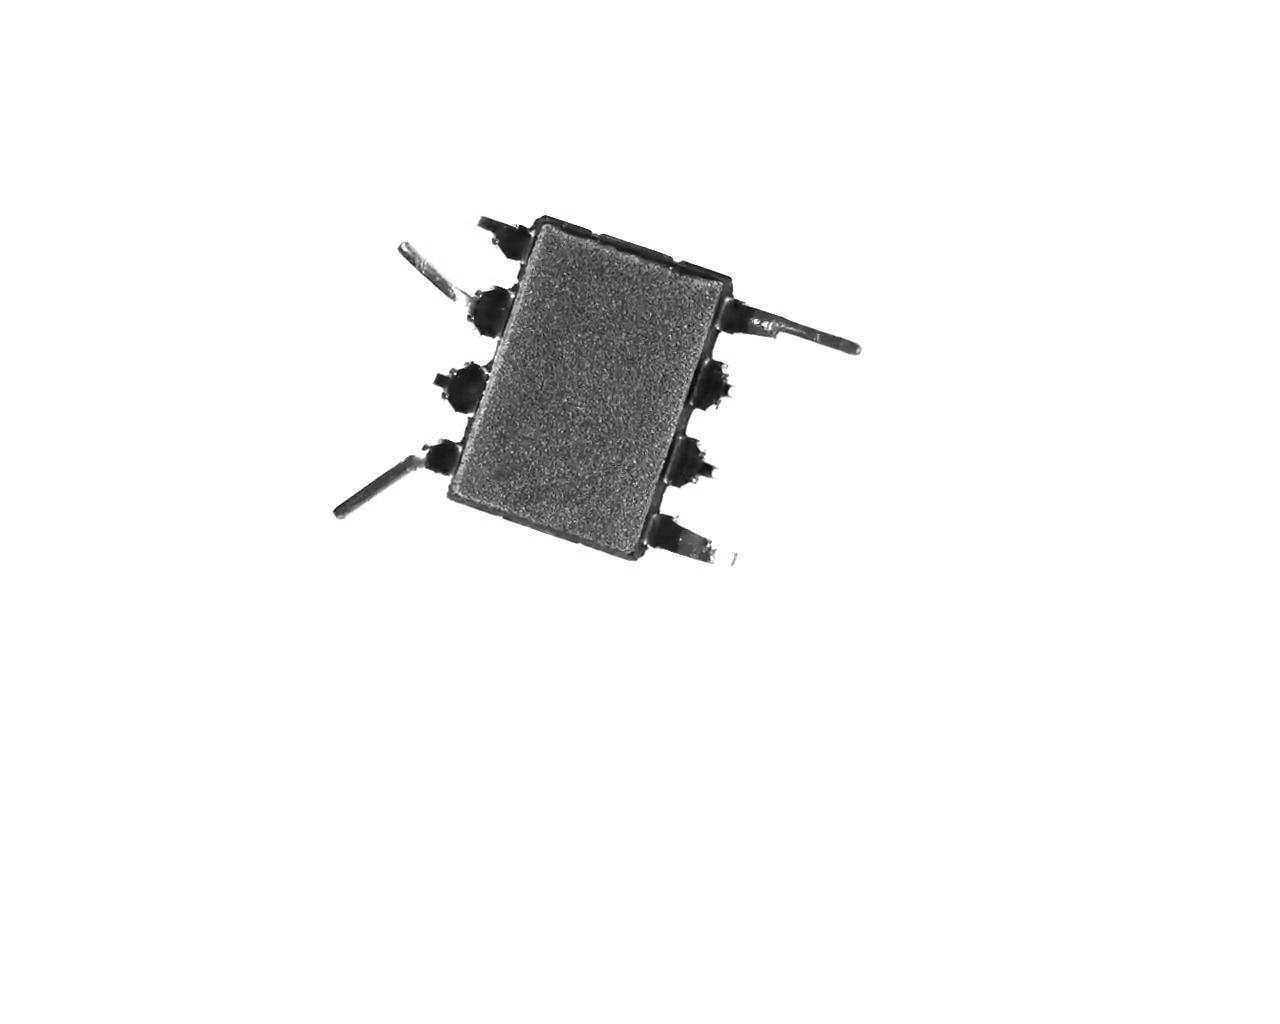Leg: (392, 236, 517, 346), (330, 430, 459, 521), (716, 288, 867, 362), (644, 503, 747, 587)
brokenLeg: (427, 353, 496, 423), (463, 207, 536, 267), (664, 425, 723, 494), (689, 351, 739, 417)
